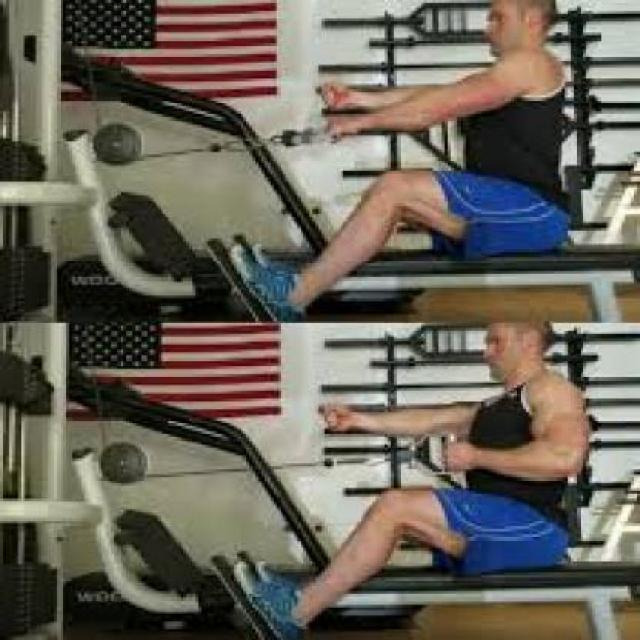Seated Cable Rows: (7, 0, 640, 320), (12, 322, 640, 638)
